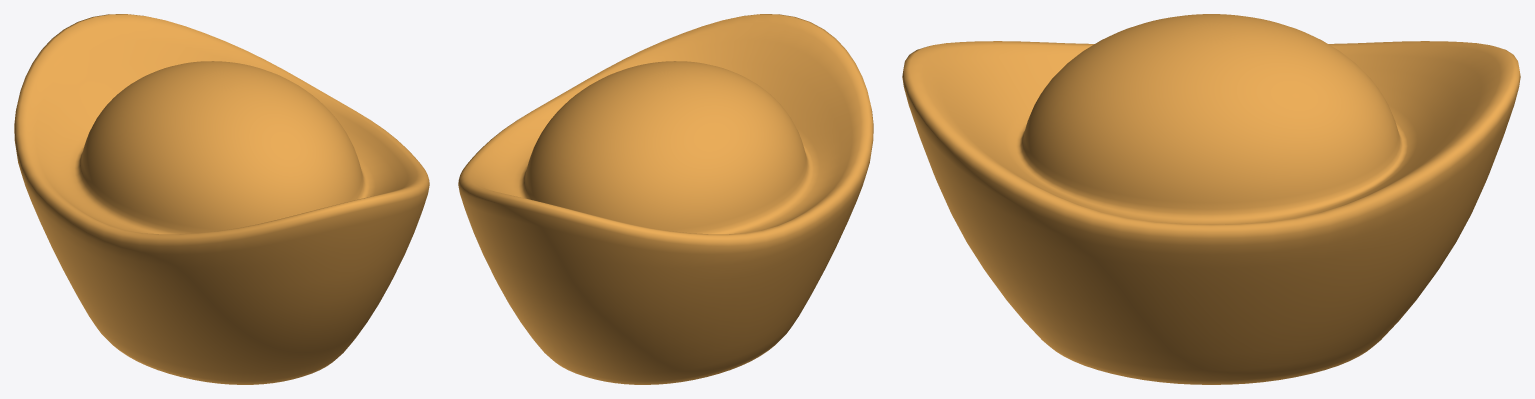
Rendered from sycee.glb.
3 renders of one model, left to right at view 1: azimuth 30°, elevation 25°; view 2: azimuth 150°, elevation 25°; view 3: azimuth 270°, elevation 25°, orthographic. The views are drawn at different scales.
Parts seen in each view (by area): view 1: Yuan Bao; view 2: Yuan Bao; view 3: Yuan Bao.
Boxes of the visible parts, x1,y1,x2,y2 form: Yuan Bao: (14, 14, 429, 384); Yuan Bao: (458, 14, 873, 384); Yuan Bao: (902, 14, 1520, 384).
Size of the model in its own units: 0.1189 by 0.0868 by 0.1634.
